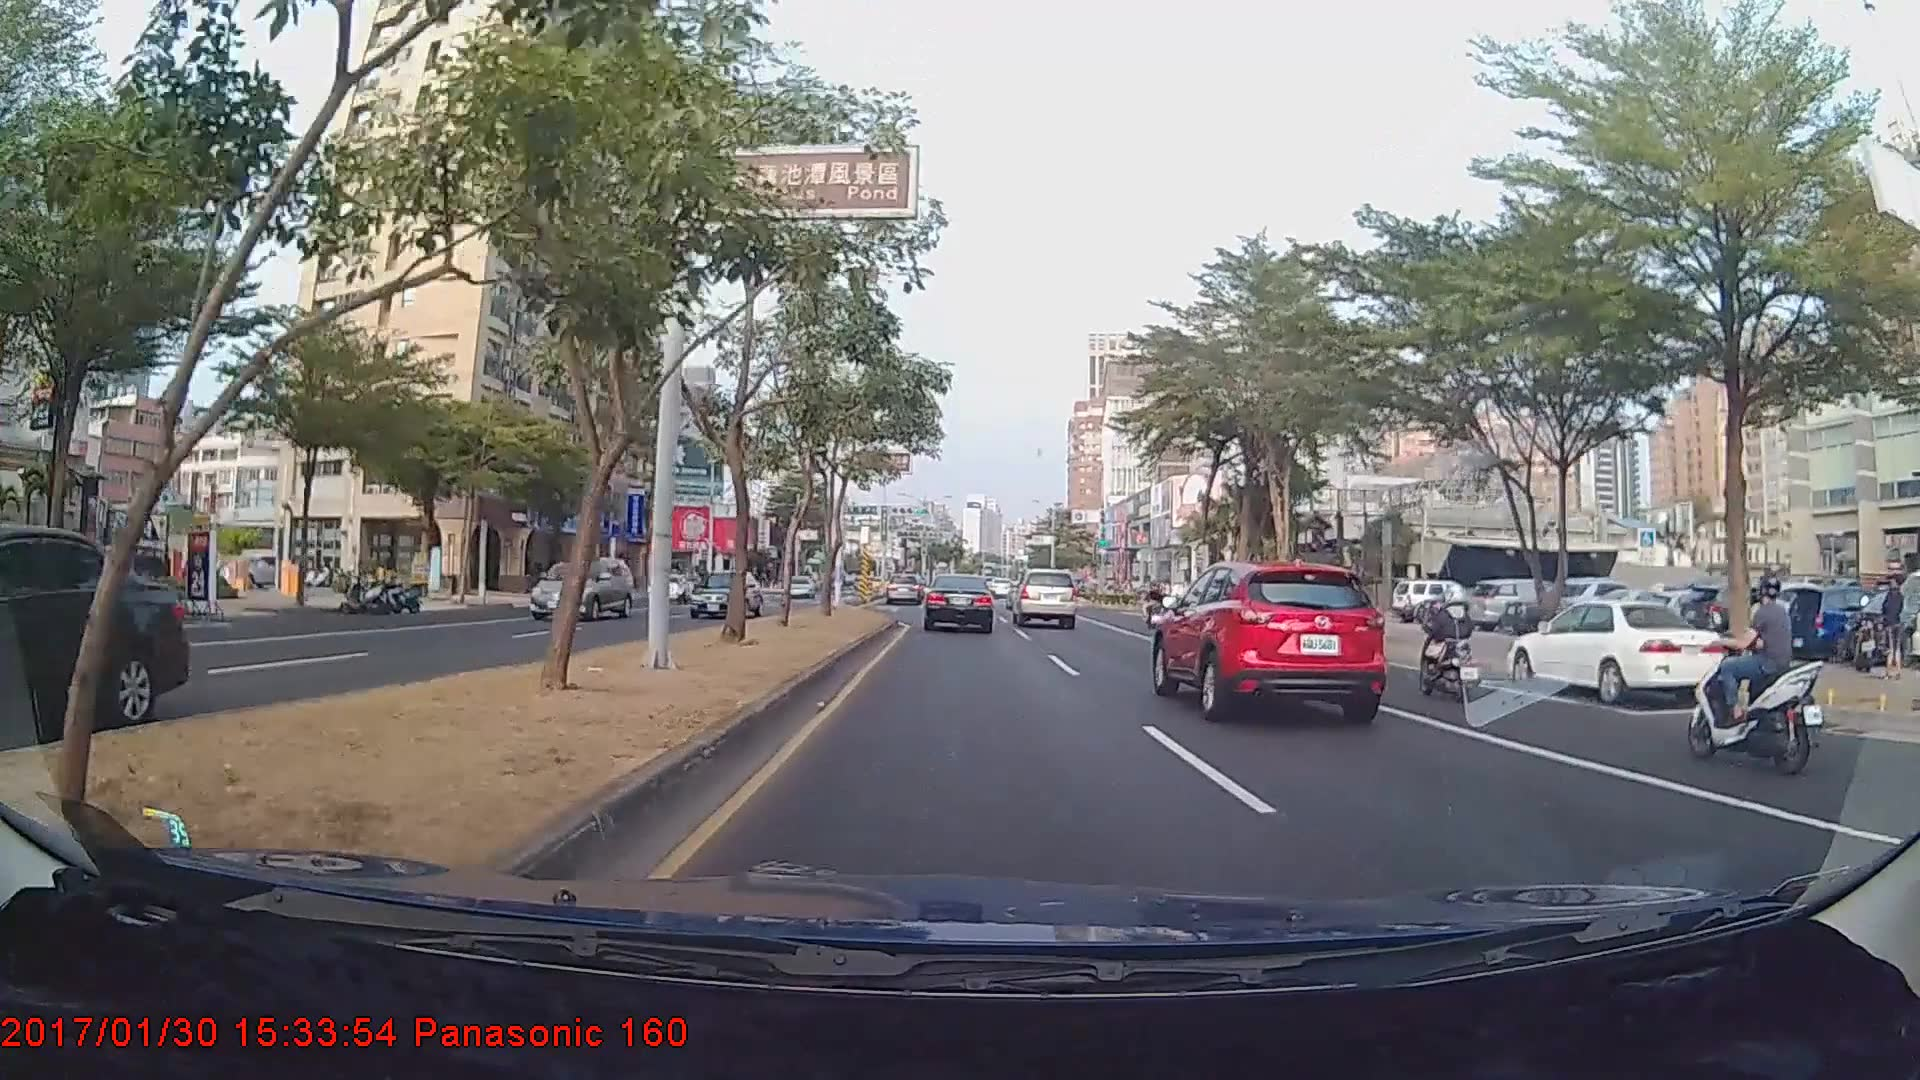pedestrian: (1877, 576, 1906, 677)
rider: (1681, 555, 1836, 777), (1405, 581, 1489, 704)
vehicle: (0, 529, 187, 747), (1149, 559, 1387, 727), (1506, 597, 1730, 703), (527, 553, 635, 621), (922, 572, 995, 633), (1012, 567, 1077, 629), (685, 567, 761, 617), (648, 571, 698, 602), (885, 572, 926, 606), (784, 575, 814, 599)
